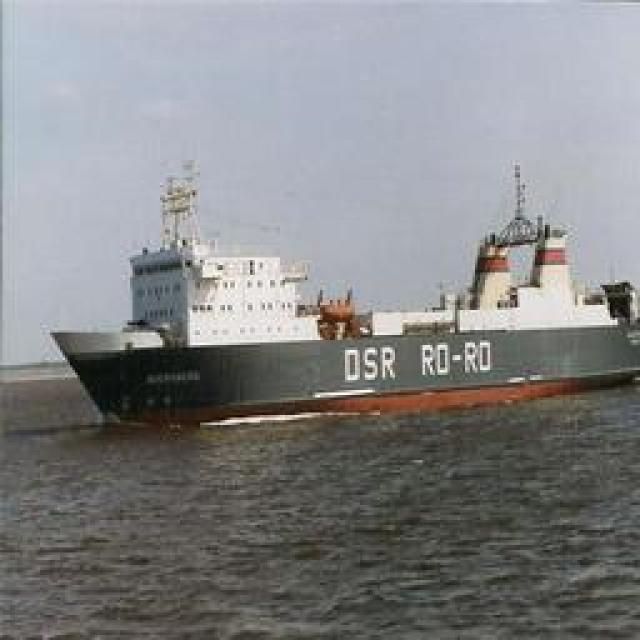Ship: (53, 145, 640, 425)
